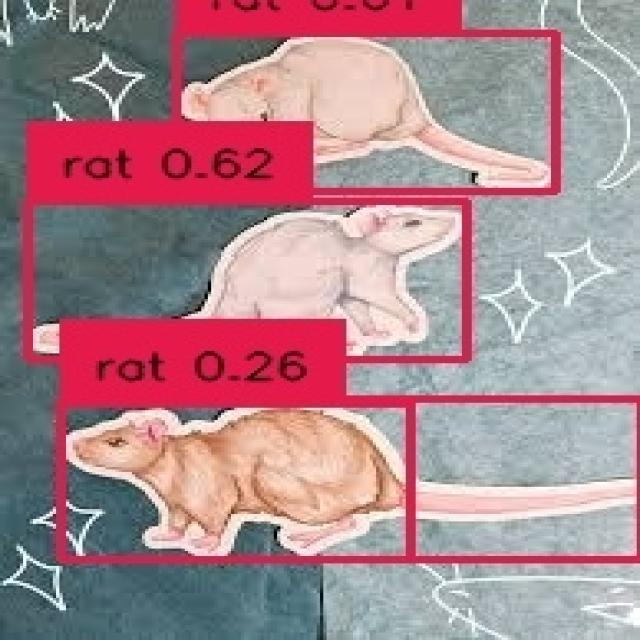rat: (56, 395, 637, 556), (23, 198, 462, 356), (171, 29, 551, 188), (56, 400, 406, 556)
